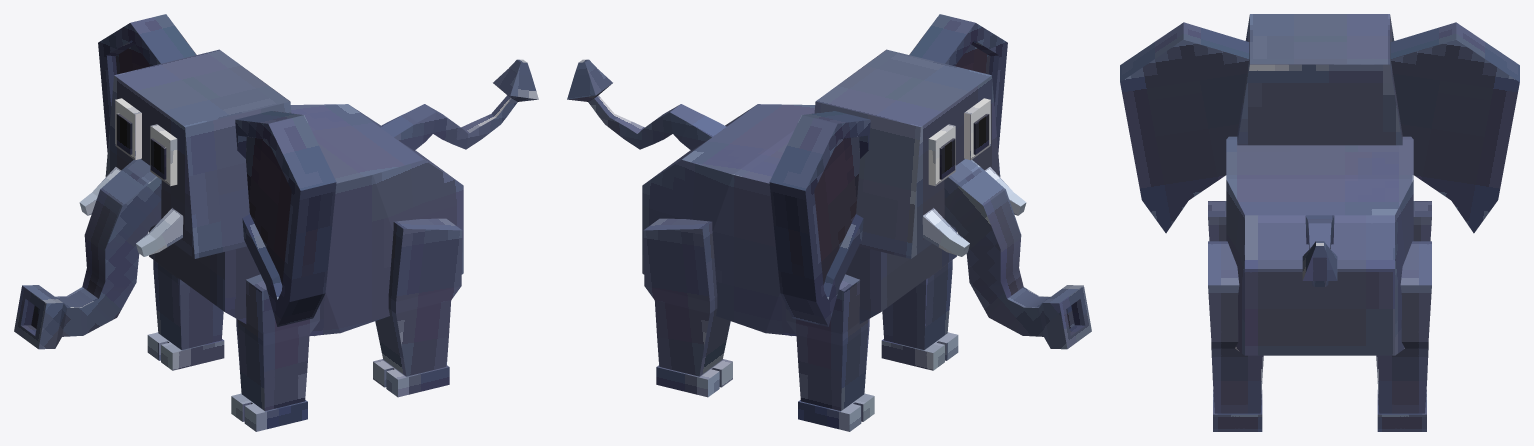
Rendered from animal_elephant.obj.
3 views of the same model, side by side, from view 1: azimuth 30°, elevation 25°; view 2: azimuth 150°, elevation 25°; view 3: azimuth 270°, elevation 25° (orthographic).
Parts seen in each view (by area): view 1: animal_elephant; view 2: animal_elephant; view 3: animal_elephant.
Part boxes in pixels (<box>): animal_elephant: <box>14,14,538,431</box>; animal_elephant: <box>567,14,1091,431</box>; animal_elephant: <box>1120,14,1519,431</box>.
Size of the model in its own units: 11.63 by 7.05 by 8.1.
1 material, 1 textured.
